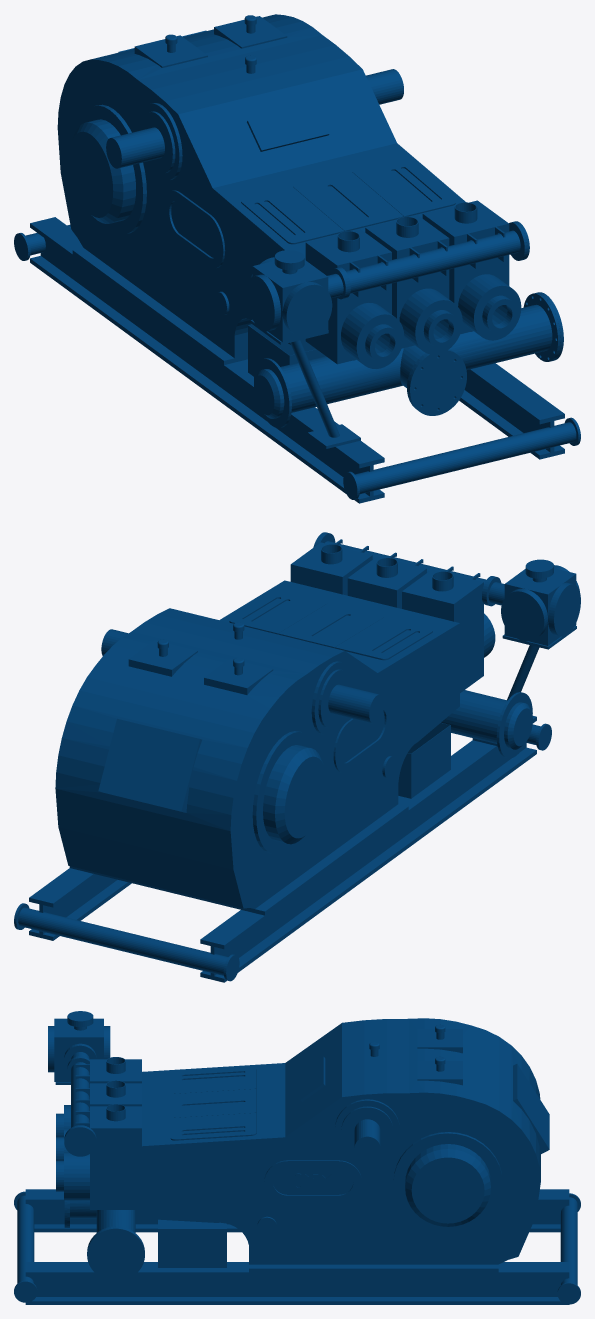
File: MudPump.gltf
The picture shows the model from 3 angles, top to bottom: view 1: azimuth 30°, elevation 25°; view 2: azimuth 150°, elevation 25°; view 3: azimuth 270°, elevation 25°; orthographic projection. The views are drawn at different scales.
Visible parts, largest first — view 1: 3D_WMP10; view 2: 3D_WMP10; view 3: 3D_WMP10.
Part boxes in pixels (x1=…): 3D_WMP10: x1=14, y1=14, x2=580, y2=503; 3D_WMP10: x1=14, y1=532, x2=580, y2=982; 3D_WMP10: x1=14, y1=1011, x2=580, y2=1304.
Bounding box in the file's own units: 2.7 × 2.23 × 5.19.
